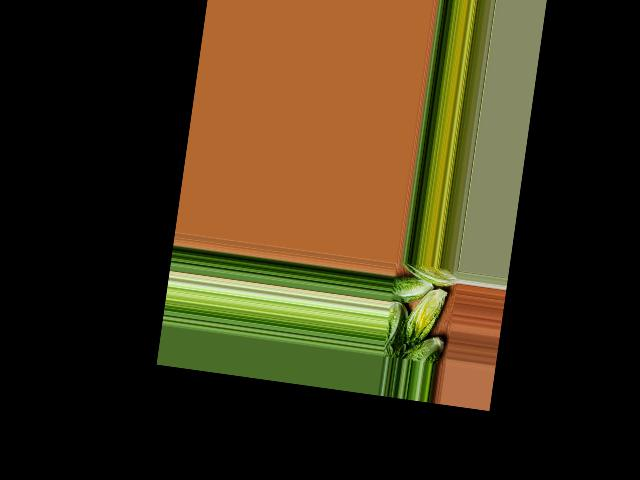lettuce: (400, 262, 458, 289)
